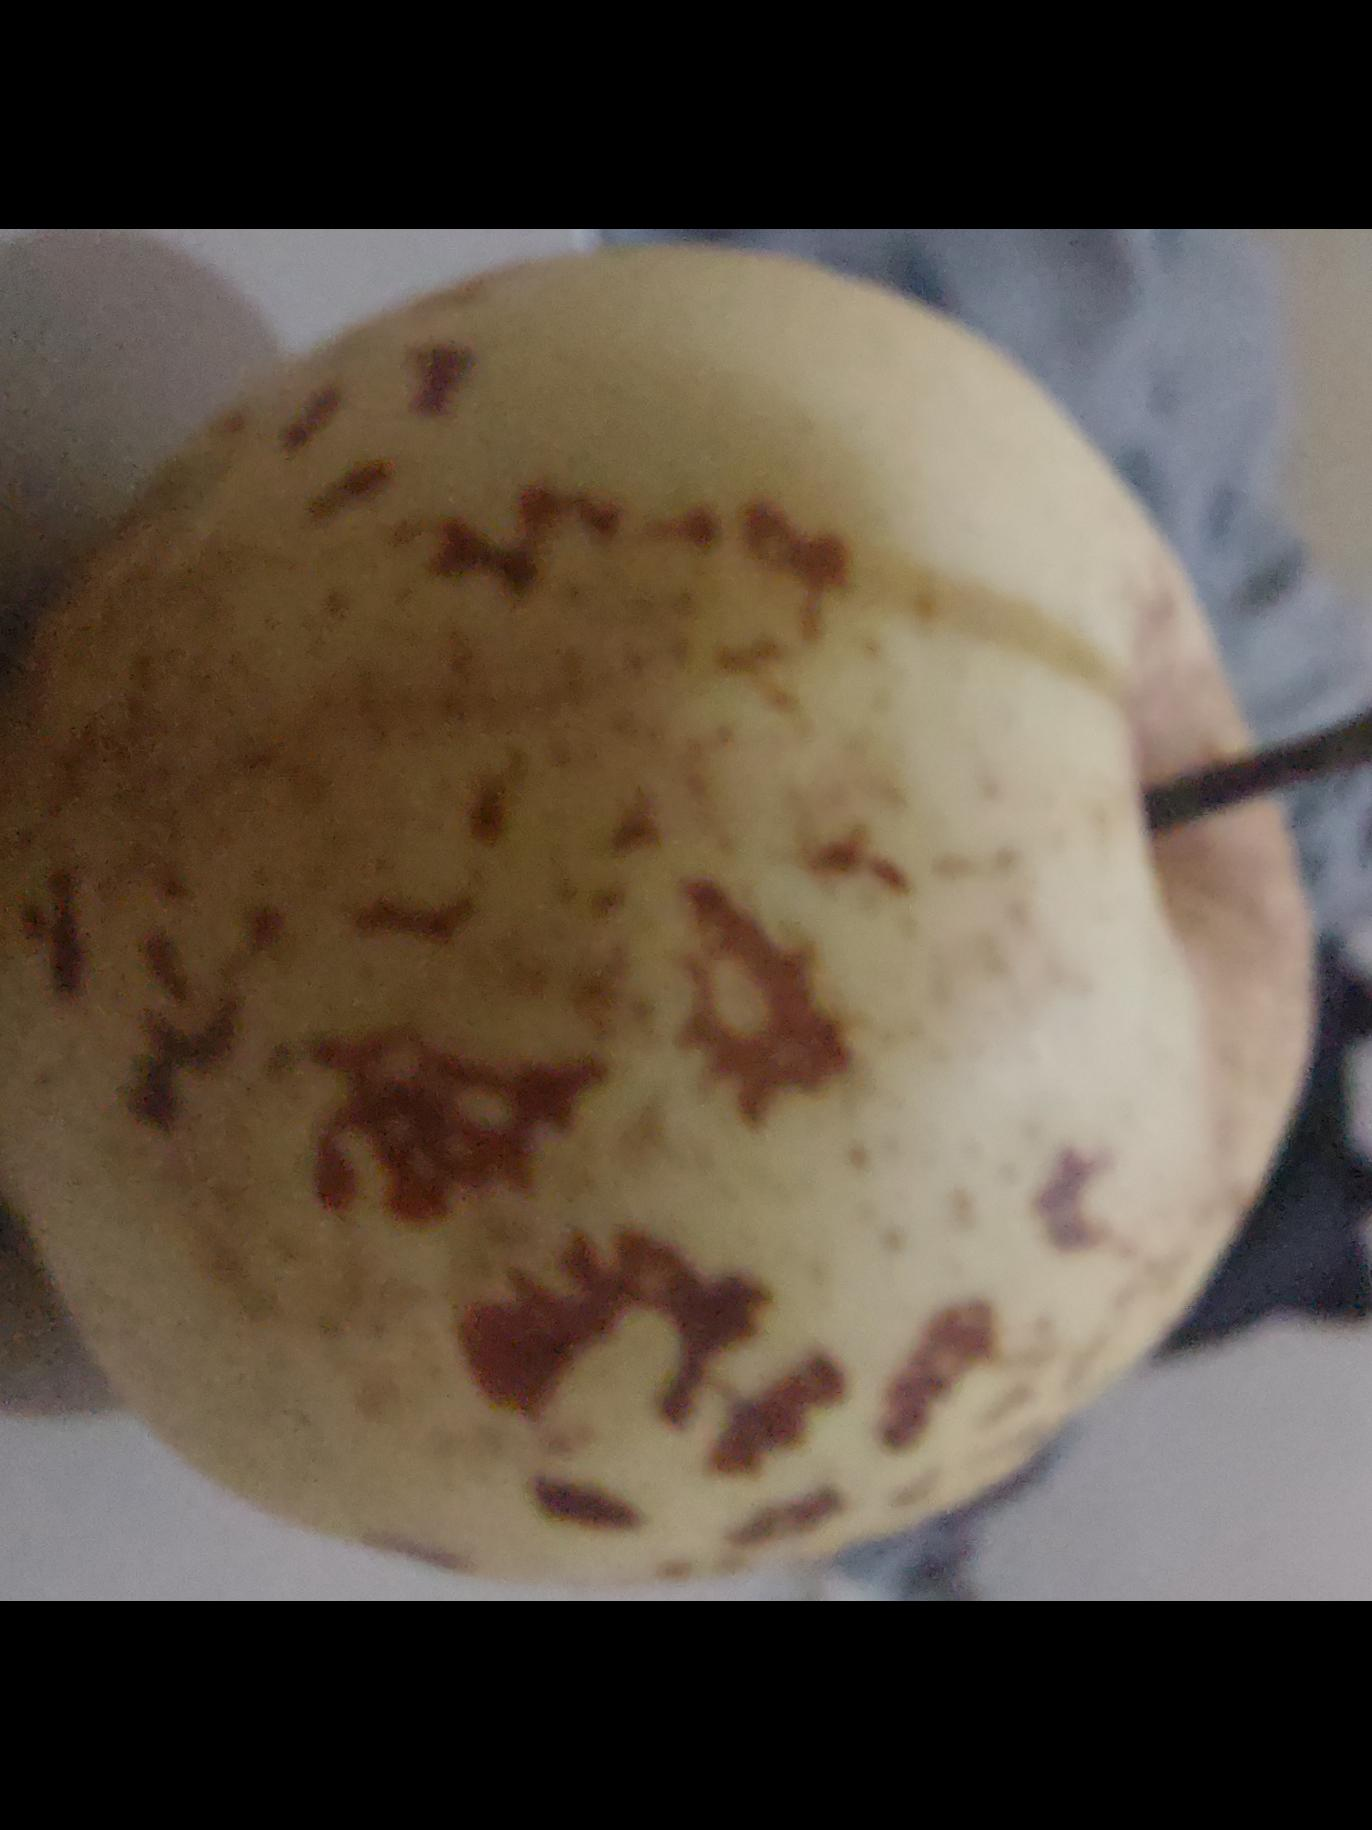Bad Pear: (0, 272, 1273, 1549)
